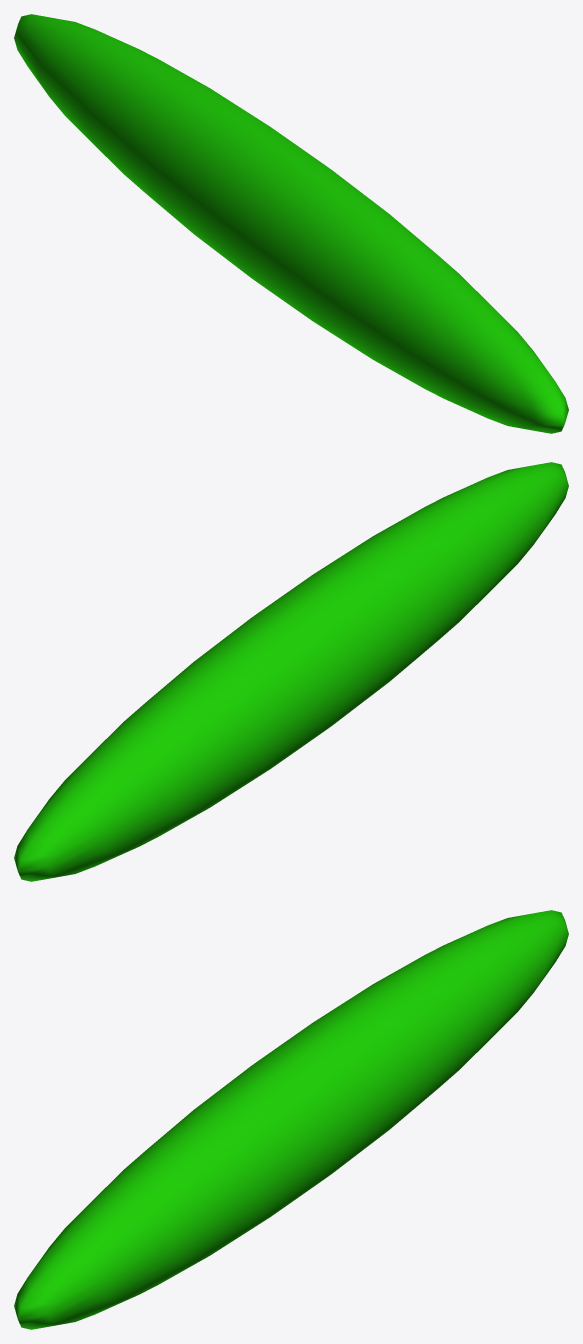
Rendered from Bullet.fbx.
The picture shows the model from 3 angles, top to bottom: view 1: azimuth 30°, elevation 25°; view 2: azimuth 150°, elevation 25°; view 3: azimuth 330°, elevation 25°; orthographic projection.
Visible parts, largest first — view 1: Bullet; view 2: Bullet; view 3: Bullet.
Boxes of the visible parts, x1=… form: Bullet: x1=14, y1=14, x2=568, y2=433; Bullet: x1=14, y1=462, x2=568, y2=881; Bullet: x1=14, y1=910, x2=568, y2=1329.
Bounding box in the file's own units: 1.16 × 1.24 × 9.74.
